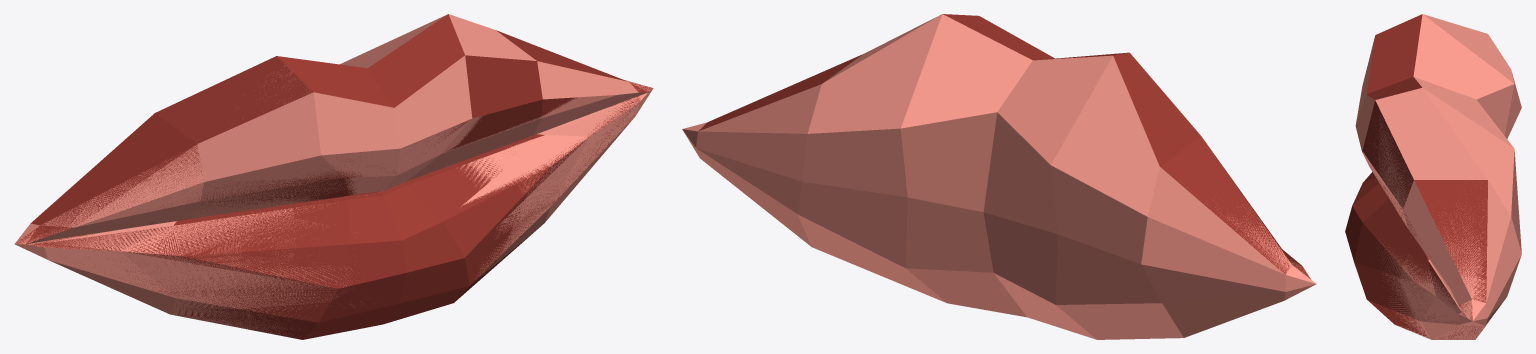
The model's file is lips.fbx.
The picture shows the model from 3 angles, left to right: view 1: azimuth 30°, elevation 25°; view 2: azimuth 150°, elevation 25°; view 3: azimuth 270°, elevation 25°; orthographic projection. The views are drawn at different scales.
Visible parts, largest first — view 1: Lips, Lips2, Lips5, Lips3, Lips4, Lips1, Lips6; view 2: Lips, Lips1, Lips2, Lips4, Lips6; view 3: Lips, Lips5, Lips6, Lips3, Lips4.
Boxes of the visible parts, x1,y1,x2,y2 form: Lips: [15, 14, 653, 337]; Lips2: [123, 56, 349, 339]; Lips5: [405, 55, 588, 302]; Lips3: [277, 56, 406, 339]; Lips4: [367, 14, 470, 324]; Lips1: [14, 113, 203, 296]; Lips6: [496, 30, 652, 205]; Lips: [682, 14, 1316, 339]; Lips1: [1160, 136, 1310, 278]; Lips2: [1113, 52, 1200, 166]; Lips4: [943, 14, 1054, 60]; Lips6: [698, 54, 862, 131]; Lips: [1355, 14, 1521, 339]; Lips5: [1354, 100, 1433, 337]; Lips6: [1404, 180, 1487, 339]; Lips3: [1352, 14, 1422, 205]; Lips4: [1345, 77, 1421, 261].
Size of the model in its own units: 3.53 by 1.5 by 0.962.
